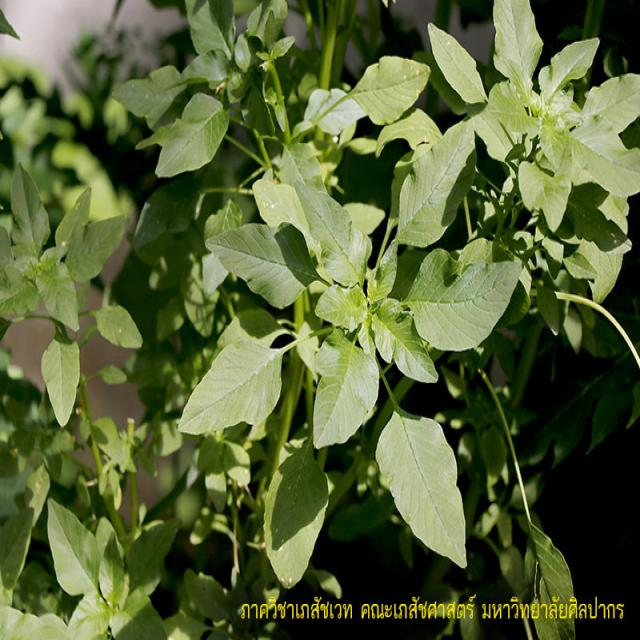Medicinal-Arive Dantu: (188, 110, 512, 580), (0, 170, 177, 640), (423, 9, 640, 346), (112, 0, 303, 179)
